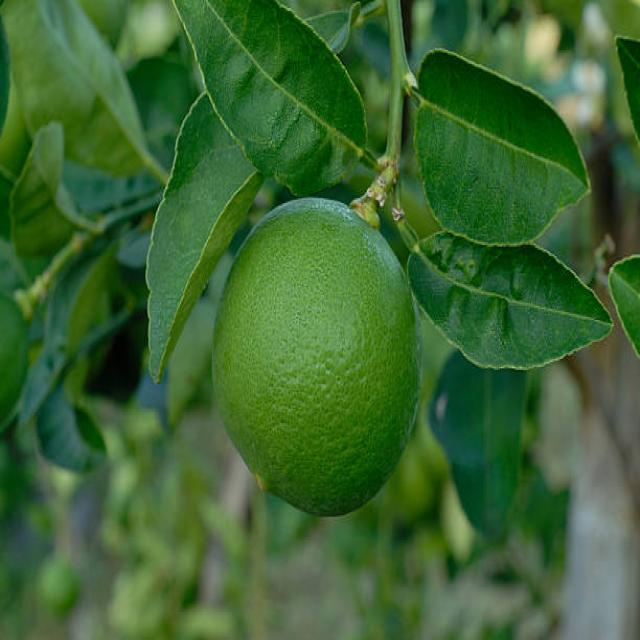Unripe: (212, 194, 421, 517)
